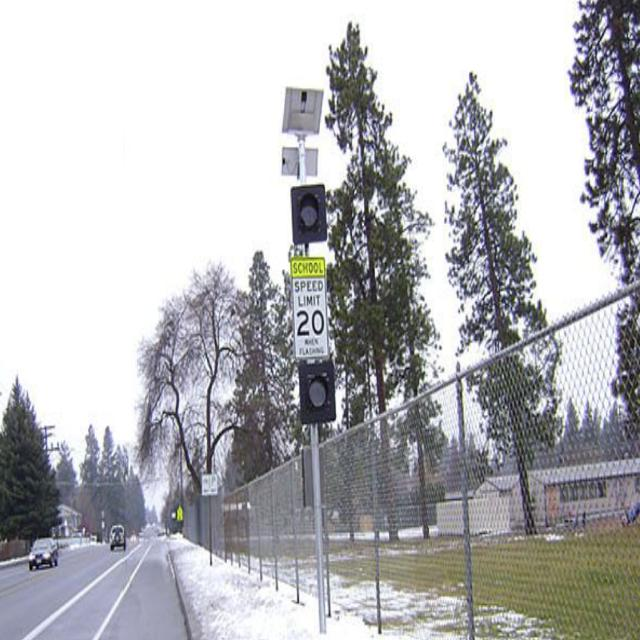speedLimit20: (294, 278, 326, 336)
